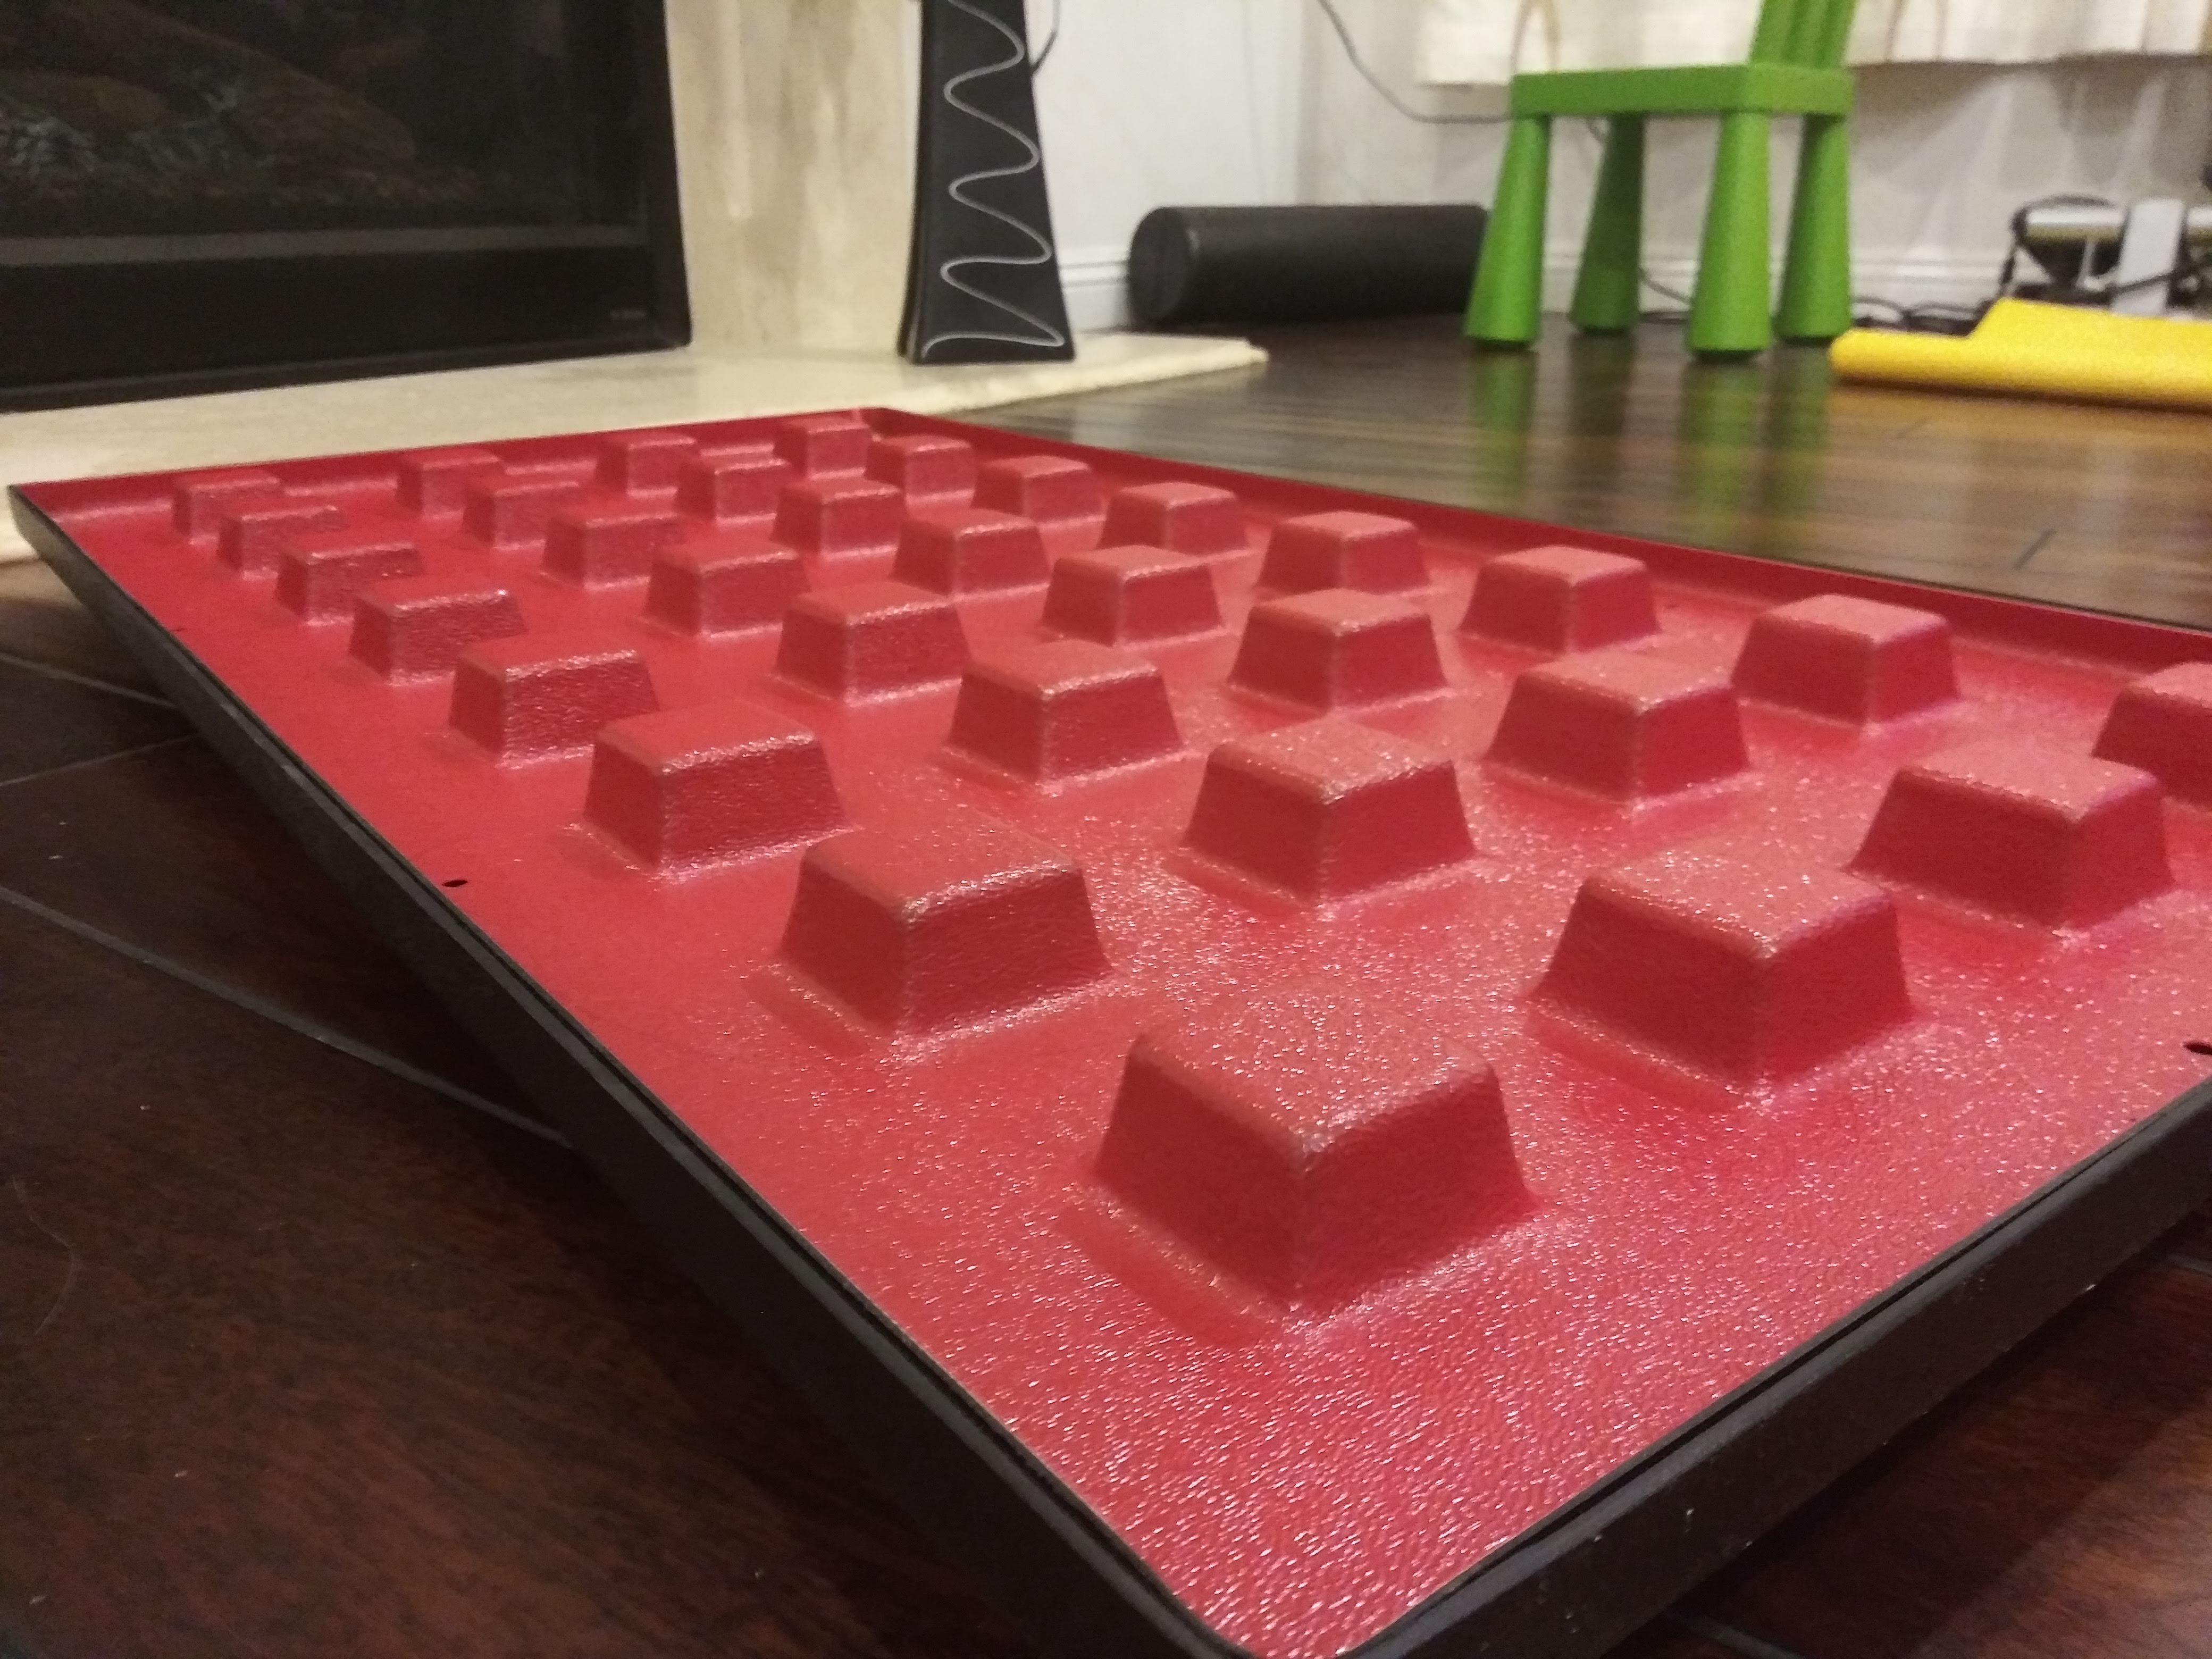red foundation: (7, 389, 2205, 1650)
